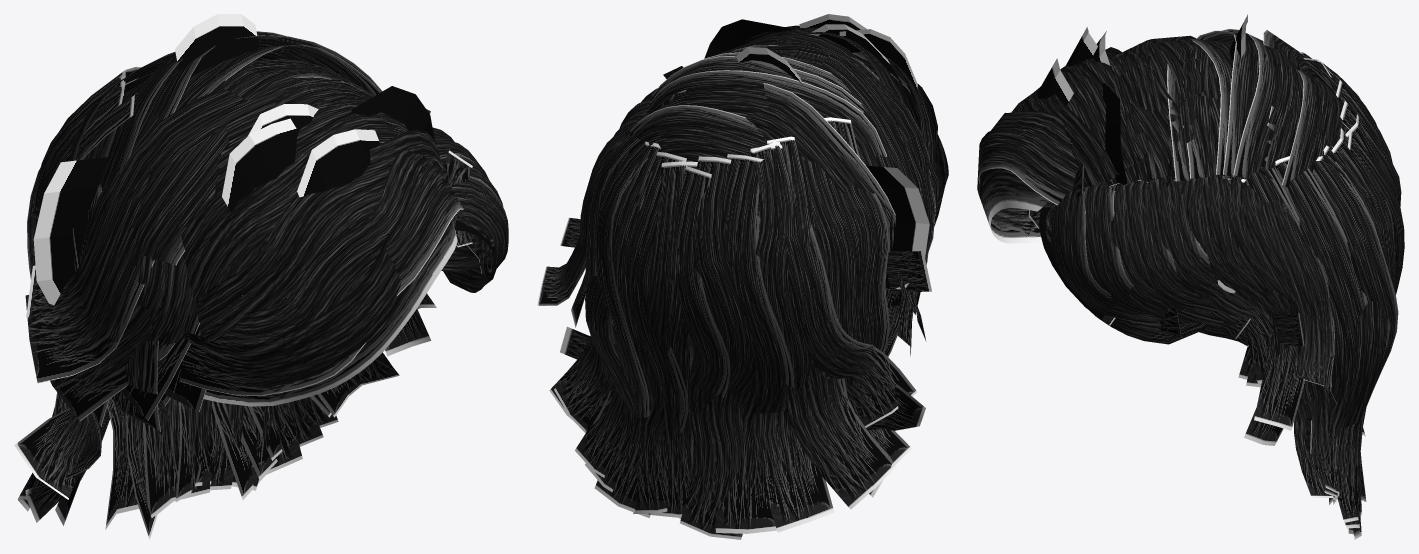
File: Yash_Hair.fbx
3 views of the same model, side by side, from view 1: azimuth 30°, elevation 25°; view 2: azimuth 150°, elevation 25°; view 3: azimuth 270°, elevation 25° (orthographic). The views are drawn at different scales.
Visible parts, largest first — view 1: Hair; view 2: Hair; view 3: Hair.
Boxes of the visible parts, left/top/right/bottom form: Hair: left=14, top=14, right=508, bottom=539; Hair: left=537, top=14, right=948, bottom=539; Hair: left=977, top=14, right=1404, bottom=539.
Size of the model in its own units: 23.11 by 28.35 by 22.52.
Materials: 1 (1 with a texture image).
